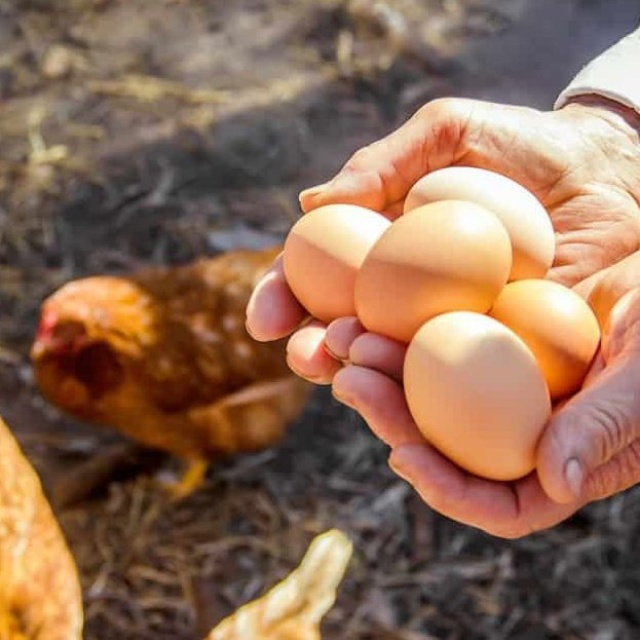trung_ga: (399, 307, 558, 484), (350, 197, 515, 342)
